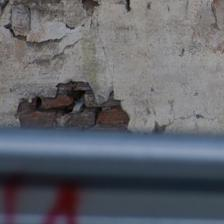Crack: (0, 0, 168, 97), (0, 80, 99, 162), (45, 41, 82, 61)
